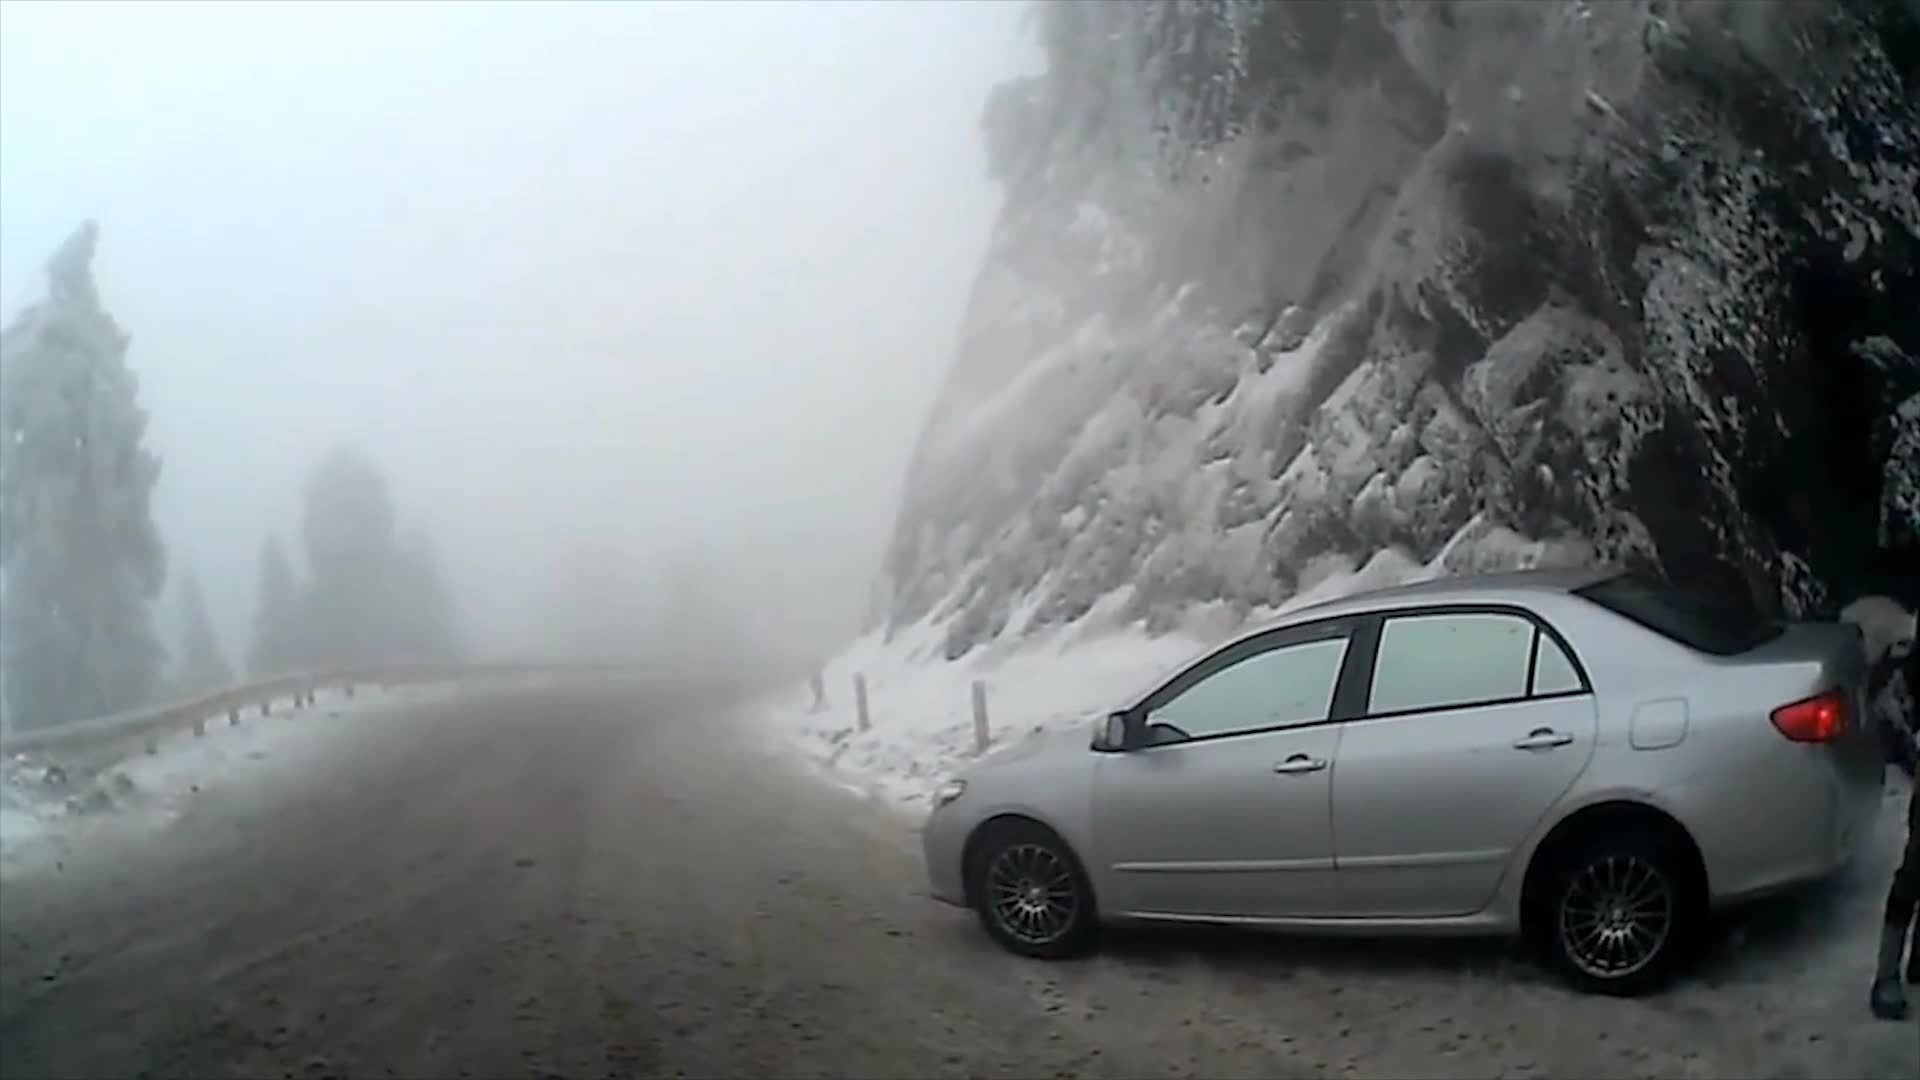pedestrian: (1855, 477, 1920, 1029)
vehicle: (922, 565, 1881, 997)
